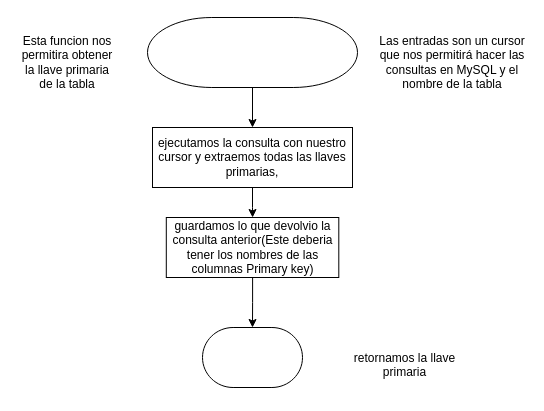
Image size: 544x411. Some labels were removed from this diagram. The shapes that lost their labels are listed below. From the top down, each one's box as (x1, y1, x2, y2) in pixels, then its label:
(146, 16, 358, 88): get_primary_key(cursor,table_name)
(202, 326, 302, 388): Returnamos las llaves primarias que obtenimos
